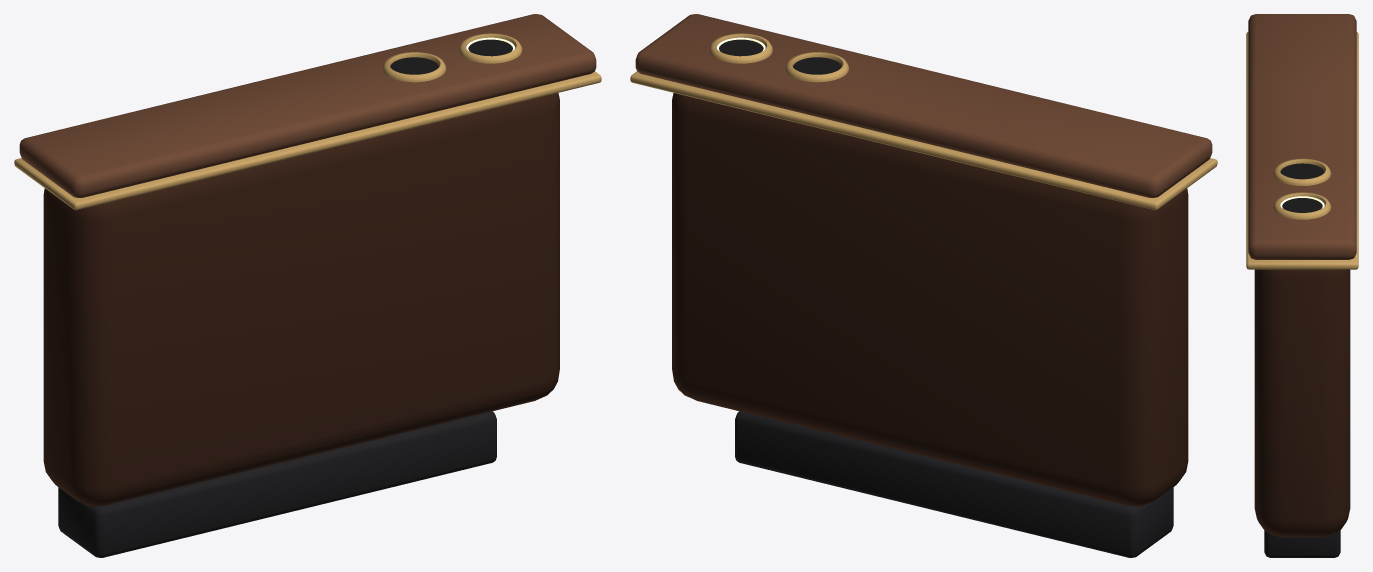
File: arm_club.glb
The picture shows the model from 3 angles, left to right: view 1: azimuth 30°, elevation 25°; view 2: azimuth 150°, elevation 25°; view 3: azimuth 270°, elevation 25°; orthographic projection. The views are drawn at different scales.
Visible parts, largest first — view 1: Body_LOD0, Top_LOD0, Plinth_LOD0, Band_LOD0, CupBRing_LOD0, CupARing_LOD0; view 2: Body_LOD0, Top_LOD0, Plinth_LOD0, Band_LOD0, CupBRing_LOD0, CupARing_LOD0; view 3: Body_LOD0, Top_LOD0, Band_LOD0, Plinth_LOD0, CupBRing_LOD0, CupARing_LOD0, CupBWell_LOD0, CupAWell_LOD0.
Part boxes in pixels (bbox=[...]): Body_LOD0: bbox=[43, 93, 559, 506]; Top_LOD0: bbox=[19, 14, 596, 197]; Plinth_LOD0: bbox=[58, 411, 496, 557]; Band_LOD0: bbox=[14, 71, 601, 210]; CupBRing_LOD0: bbox=[383, 52, 445, 82]; CupARing_LOD0: bbox=[459, 33, 522, 63]; Body_LOD0: bbox=[672, 93, 1188, 506]; Top_LOD0: bbox=[635, 14, 1212, 197]; Plinth_LOD0: bbox=[735, 411, 1173, 557]; Band_LOD0: bbox=[630, 71, 1217, 210]; CupBRing_LOD0: bbox=[786, 52, 848, 82]; CupARing_LOD0: bbox=[709, 33, 772, 63]; Body_LOD0: bbox=[1254, 269, 1350, 537]; Top_LOD0: bbox=[1248, 14, 1356, 259]; Band_LOD0: bbox=[1246, 32, 1358, 269]; Plinth_LOD0: bbox=[1264, 530, 1340, 557]; CupBRing_LOD0: bbox=[1273, 158, 1331, 185]; CupARing_LOD0: bbox=[1273, 192, 1331, 219]; CupBWell_LOD0: bbox=[1280, 163, 1324, 179]; CupAWell_LOD0: bbox=[1282, 198, 1322, 212].
Size of what is drawn, in the model's own units: 0.866 by 0.628 by 0.176.
